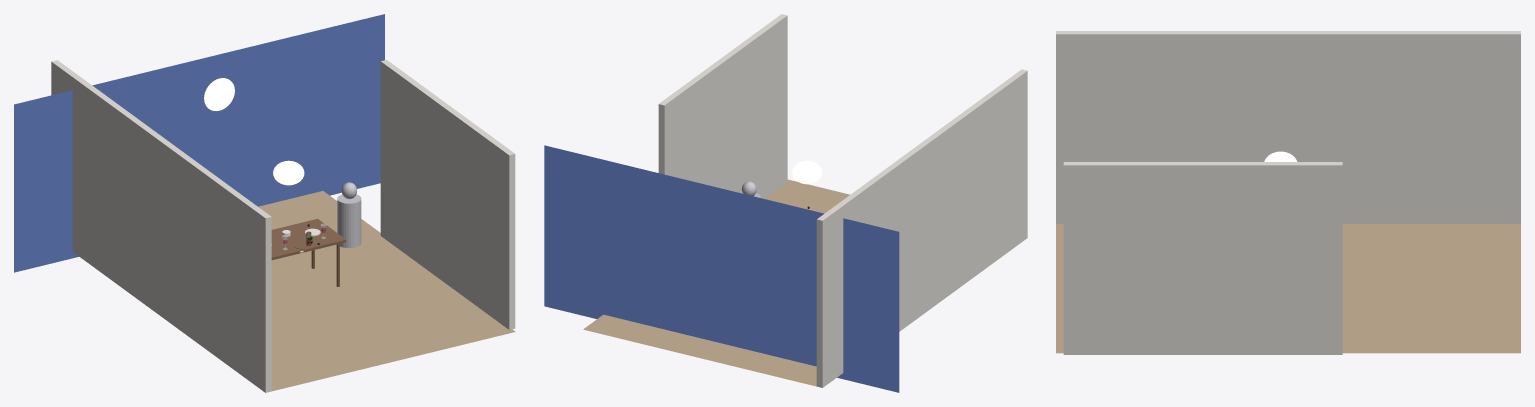
The model's file is v1_bottle_table.glb.
3 renders of one model, left to right at view 1: azimuth 30°, elevation 25°; view 2: azimuth 150°, elevation 25°; view 3: azimuth 270°, elevation 25°, orthographic. The views are drawn at different scales.
Visible parts, largest first — view 1: Skyline_Card, Wall_Left, Floor, Wall_Right, Table_Top, Ren_Proxy_Body, Moon, Pendant_Shade; view 2: Skyline_Card, Wall_Left, Wall_Right, Floor, Pendant_Shade; view 3: Wall_Left, Wall_Right, Floor.
Boxes of the visible parts, x1,y1,x2,y2 form: Skyline_Card: (14, 14, 384, 272); Wall_Left: (51, 60, 271, 392); Floor: (258, 191, 515, 391); Wall_Right: (380, 60, 515, 329); Table_Top: (271, 218, 346, 260); Ren_Proxy_Body: (337, 194, 361, 248); Moon: (204, 78, 234, 110); Pendant_Shade: (273, 160, 304, 185); Skyline_Card: (544, 145, 899, 392); Wall_Left: (816, 69, 1027, 387); Wall_Right: (658, 14, 787, 198); Floor: (583, 179, 849, 386); Pendant_Shade: (792, 160, 822, 184); Wall_Left: (1056, 31, 1520, 223); Wall_Right: (1063, 162, 1342, 354); Floor: (1056, 224, 1520, 353).
Size of what is drawn, in the model's own units: 6 by 2.8 by 6.
18 materials, 6 textured.
